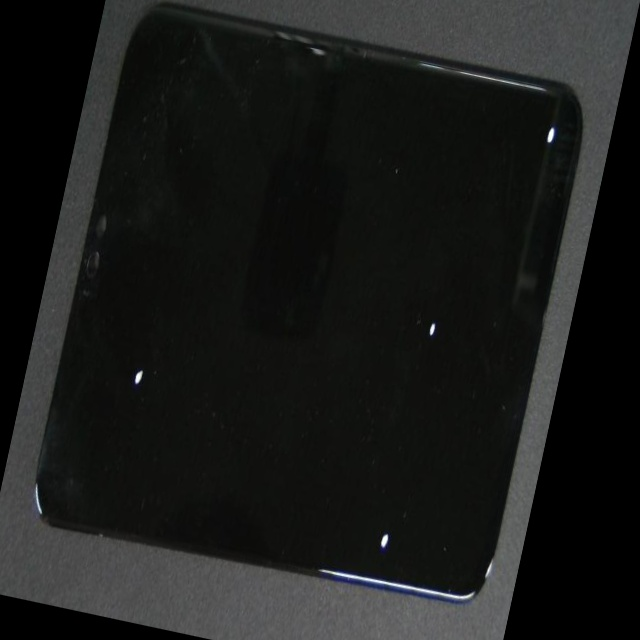stain: (179, 200, 583, 640), (217, 80, 609, 507), (46, 107, 244, 591), (313, 0, 633, 200)
